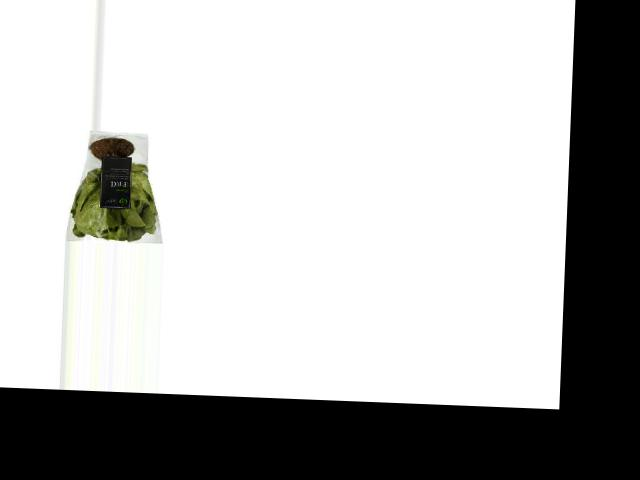lettuce: (66, 129, 164, 243)
